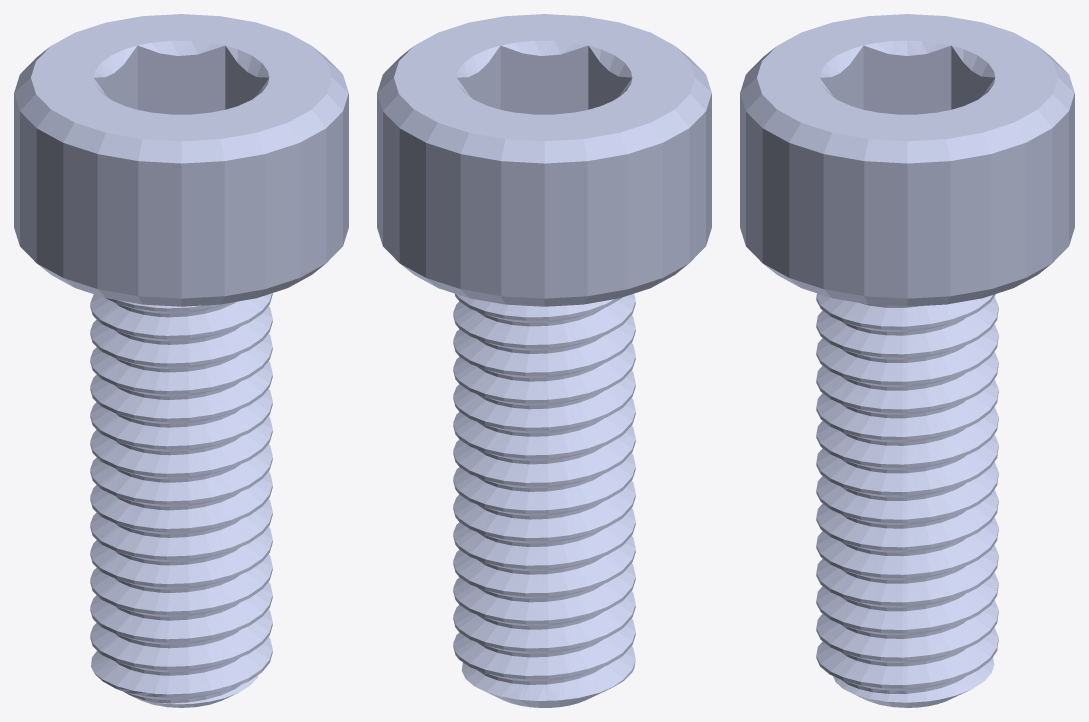
The model's file is T200_T200STEP_T200STEPSTEP_T200STEP1_02_T200STEP1.obj.
3 renders of one model, left to right at view 1: azimuth 30°, elevation 25°; view 2: azimuth 150°, elevation 25°; view 3: azimuth 270°, elevation 25°, orthographic.
Bounding box in the file's own units: 0.0055 × 0.011 × 0.0055.
